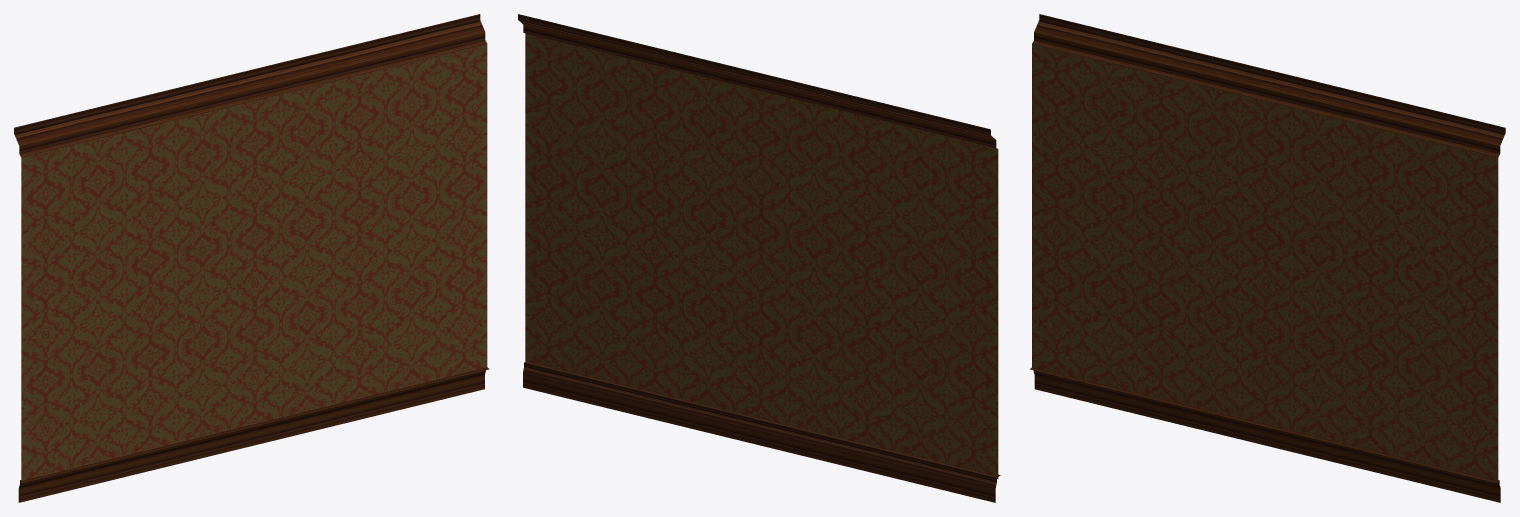
Rendered from WallPlain_Med.fbx.
3 views of the same model, side by side, from view 1: azimuth 30°, elevation 25°; view 2: azimuth 150°, elevation 25°; view 3: azimuth 330°, elevation 25° (orthographic).
Parts seen in each view (by area): view 1: WallSmoothMED; view 2: WallSmoothMED; view 3: WallSmoothMED.
Part boxes in pixels (bbox=[...]): WallSmoothMED: bbox=[14, 14, 489, 502]; WallSmoothMED: bbox=[518, 14, 1000, 502]; WallSmoothMED: bbox=[1030, 14, 1505, 502].
Bounding box in the file's own units: 369 × 281 × 13.47.
